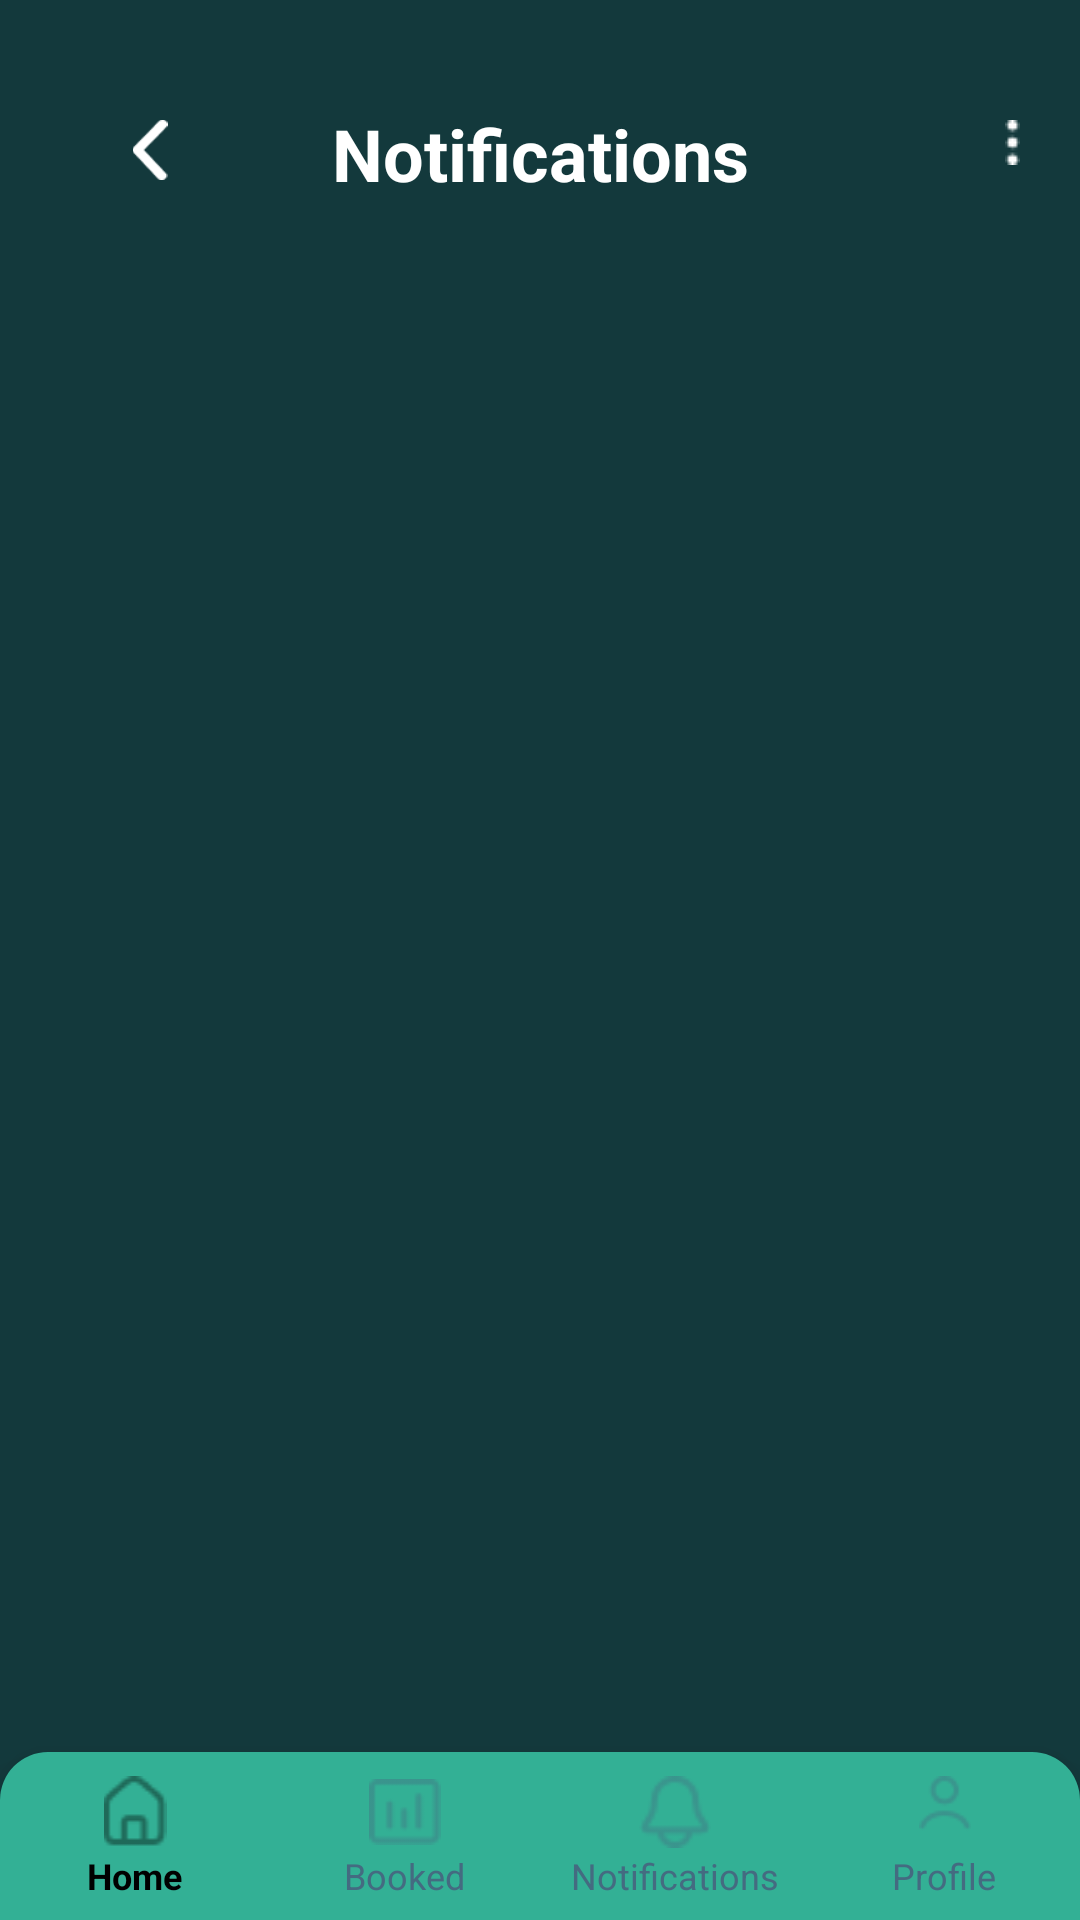

Icons on this 1080 x 1920 Android screen, each with the point to tap as point (x, y):
upscaledarrow: point (150, 150)
